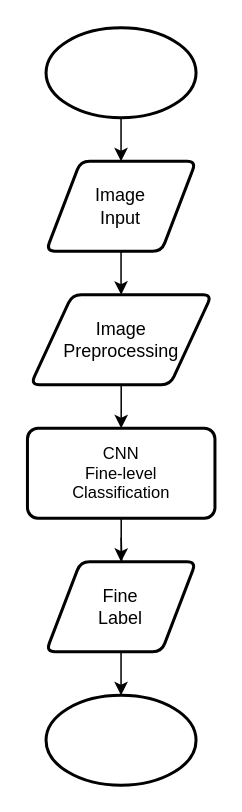
Image size: 242x812. Some labels were removed from this diagram. Here are the shapes that lost their labels. From the top down, the box of each, then its label:
(44, 26, 197, 118): Start
(44, 693, 197, 786): Finish
